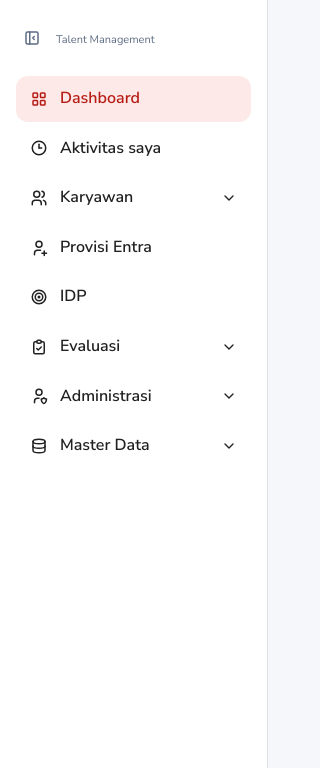
Test case: Sidebar › menampilkan grup Administration berisi Menu & Akses hanya untuk Admin (TAN-376)
Click the button "Administrasi".
click(134, 396)  # box [16,374,251,419]
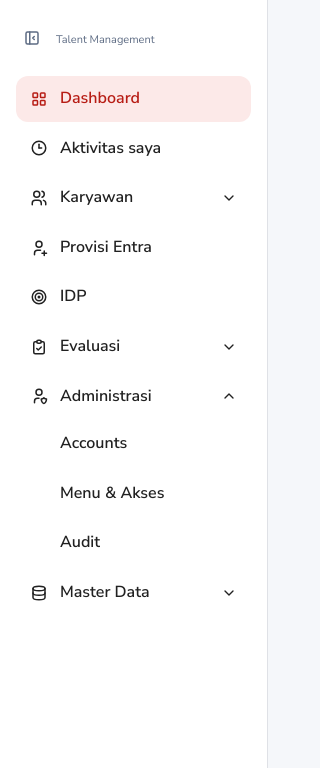
Result: the link "Menu & Akses" is shown at [60,482,164,504]
Result: the link "Accounts" is shown at [60,432,127,454]
Result: the link "Audit" is shown at [60,531,100,553]
